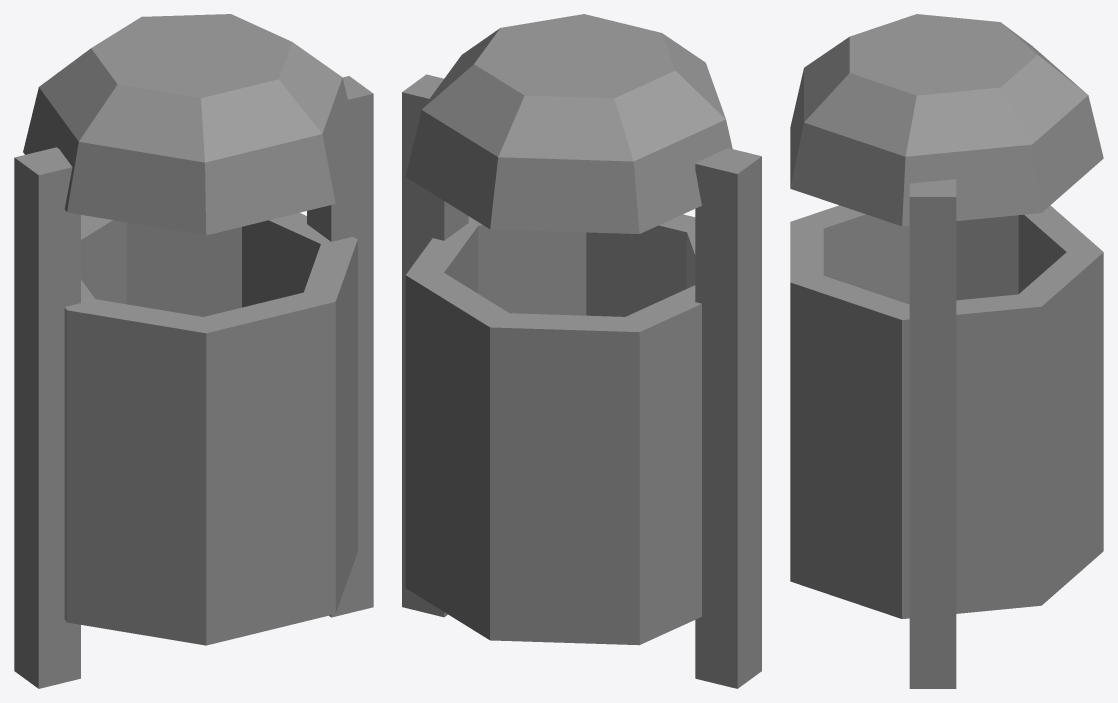
Rendered from Trashcan_01.glb.
3 renders of one model, left to right at view 1: azimuth 30°, elevation 25°; view 2: azimuth 150°, elevation 25°; view 3: azimuth 270°, elevation 25°, orthographic. The views are drawn at different scales.
Visible parts, largest first — view 1: Trashcan_1_mesh; view 2: Trashcan_1_mesh; view 3: Trashcan_1_mesh.
Part boxes in pixels (x1,y1,x2,y2): Trashcan_1_mesh: (14,14,373,688); Trashcan_1_mesh: (402,14,761,688); Trashcan_1_mesh: (790,14,1103,688).
Bounding box in the file's own units: 0.5378 × 0.893 × 0.4556.
Materials: 1 (1 with a texture image).
